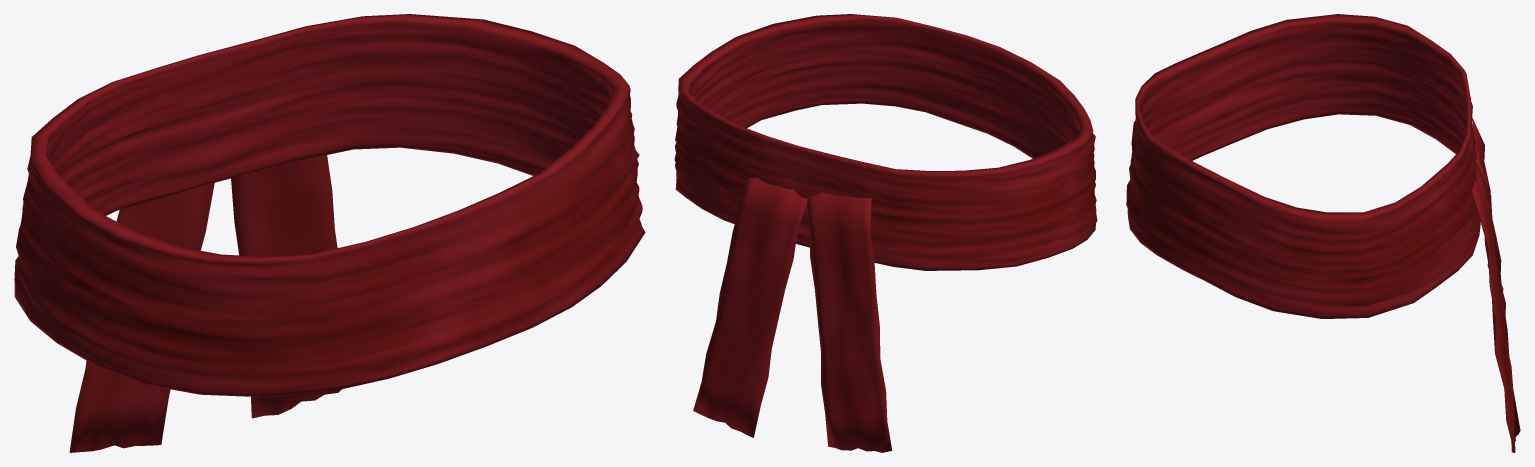
Rendered from Opaska.fbx.
3 renders of one model, left to right at view 1: azimuth 30°, elevation 25°; view 2: azimuth 150°, elevation 25°; view 3: azimuth 270°, elevation 25°, orthographic. The views are drawn at different scales.
Visible parts, largest first — view 1: Main, Strap1, Strap2; view 2: Main, Strap1, Strap2; view 3: Main, Strap2, Strap1.
Boxes of the visible parts, bbox=[...] form: Main: bbox=[14, 14, 645, 397]; Strap1: bbox=[69, 182, 214, 452]; Strap2: bbox=[231, 155, 341, 418]; Main: bbox=[674, 14, 1097, 270]; Strap1: bbox=[807, 192, 892, 452]; Strap2: bbox=[693, 177, 807, 437]; Main: bbox=[1126, 14, 1480, 318]; Strap2: bbox=[1472, 163, 1520, 452]; Strap1: bbox=[1472, 118, 1503, 290].
Size of the model in its own units: 247 by 176 by 202.
1 material, 1 textured.
